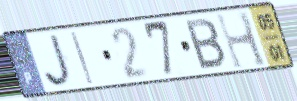2: (109, 25, 152, 82)
7: (140, 19, 177, 80)
B: (183, 17, 228, 73)
H: (213, 10, 270, 72)
I: (68, 30, 96, 87)
J: (42, 32, 76, 89)
